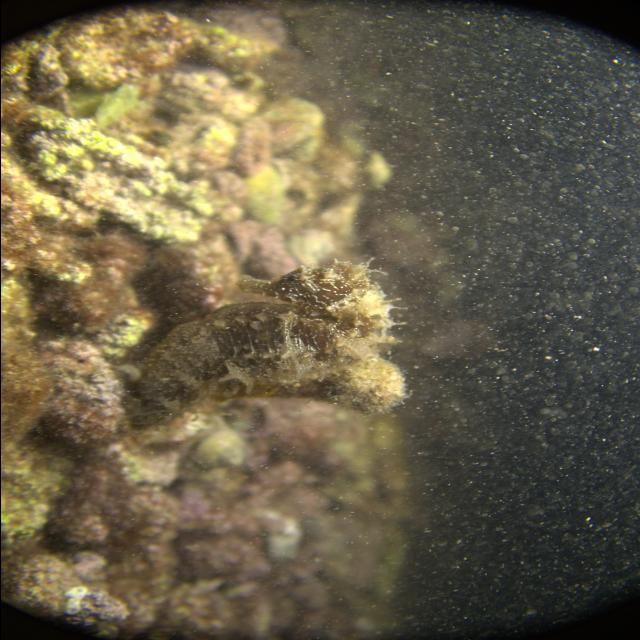Guttu: (230, 262, 381, 320)
